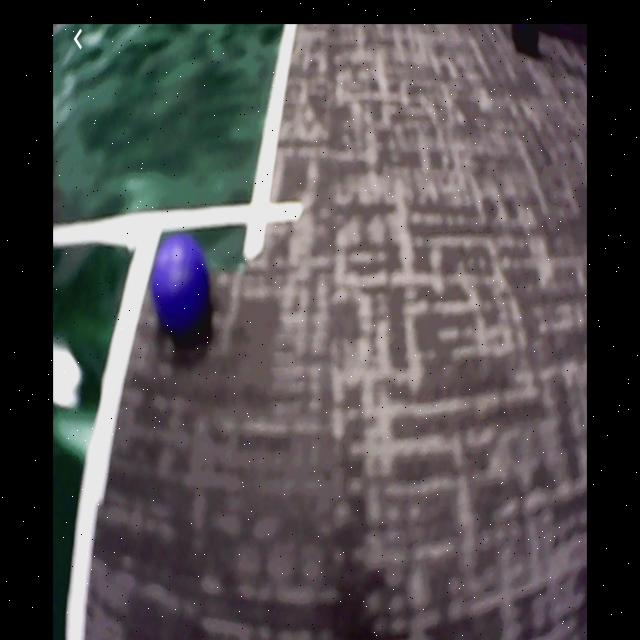ball: (153, 238, 213, 339)
